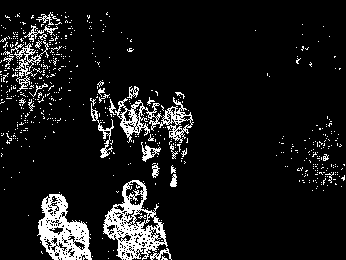person: (102, 178, 170, 260), (37, 193, 92, 260), (164, 89, 194, 187), (140, 87, 165, 184), (90, 78, 117, 159), (117, 83, 145, 146)
